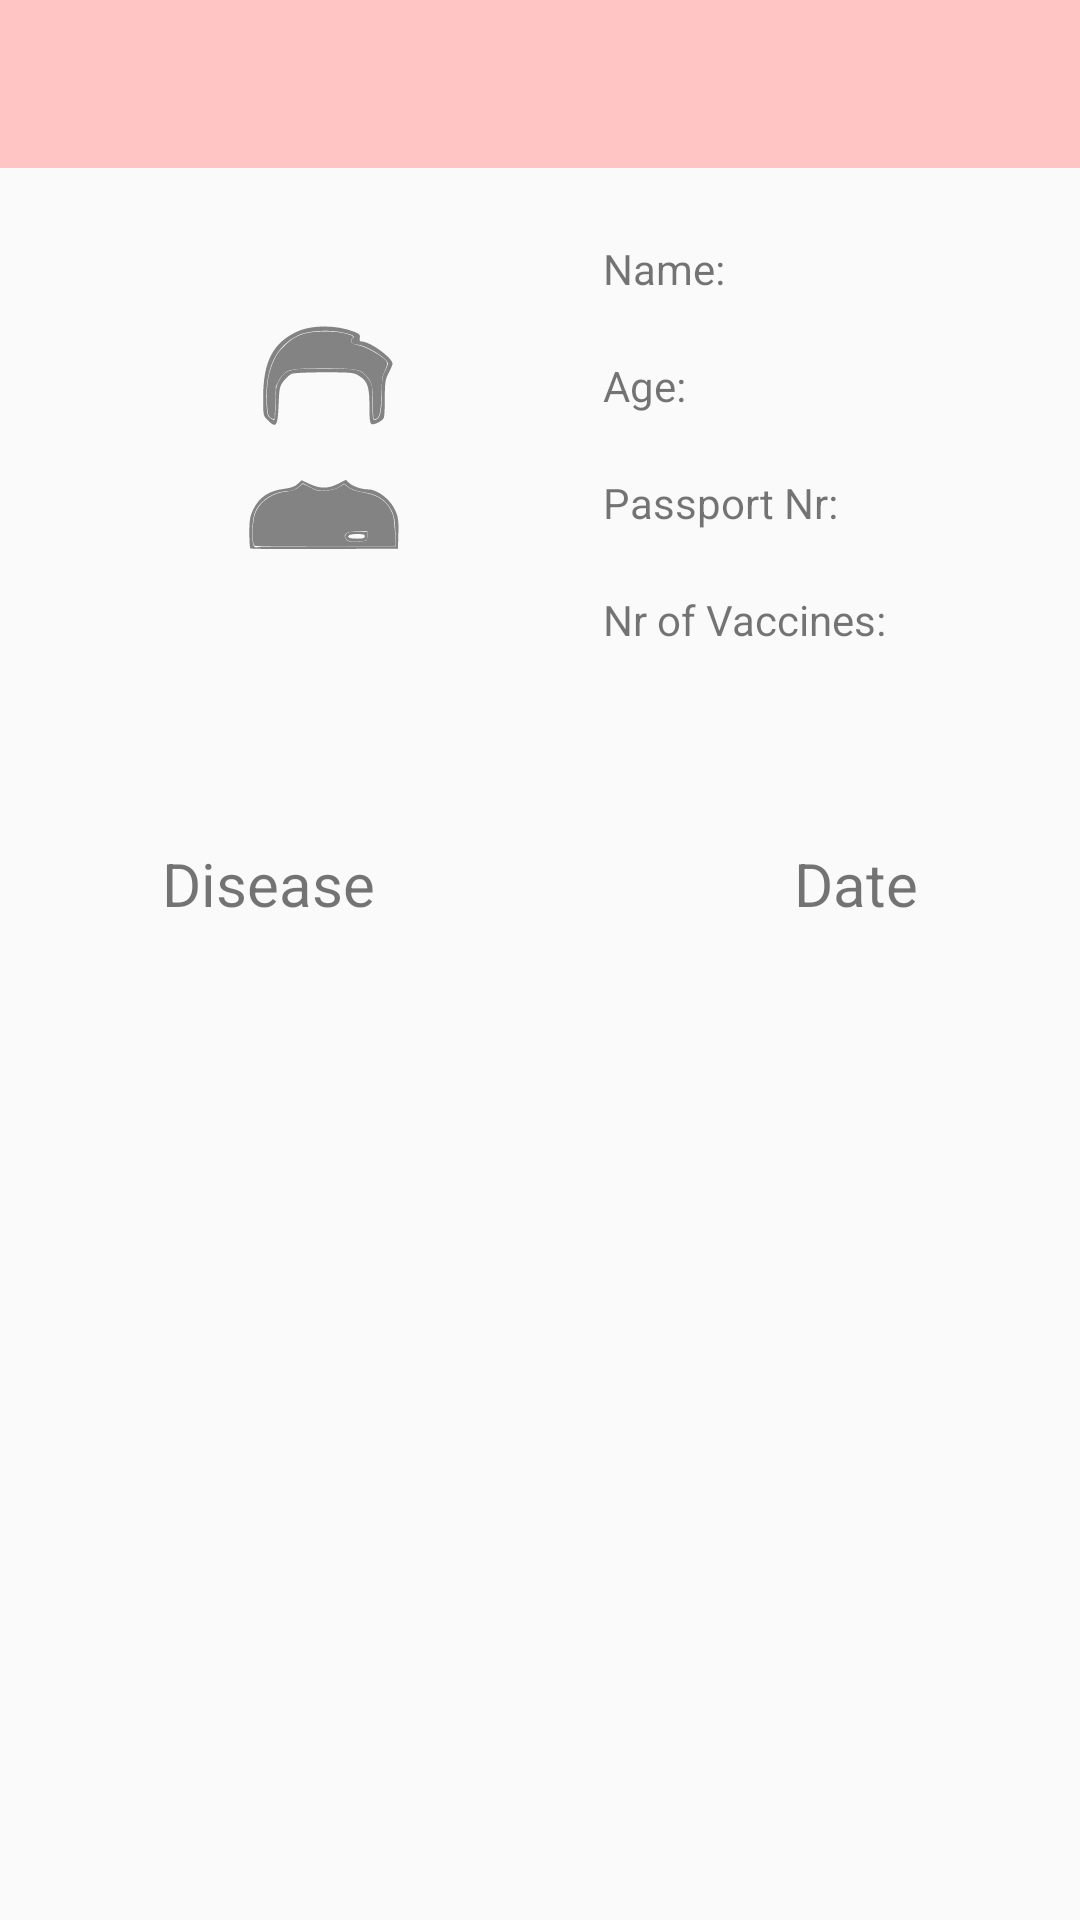

Icons on this 1080w x 1920h Android screen, each with its box as (x1, y1, x2, y2):
profilepic: (249, 326, 399, 549)
